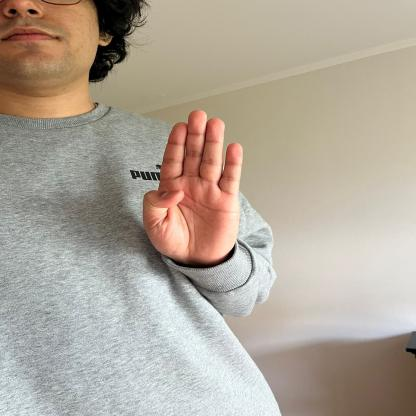B: (137, 106, 247, 263)
